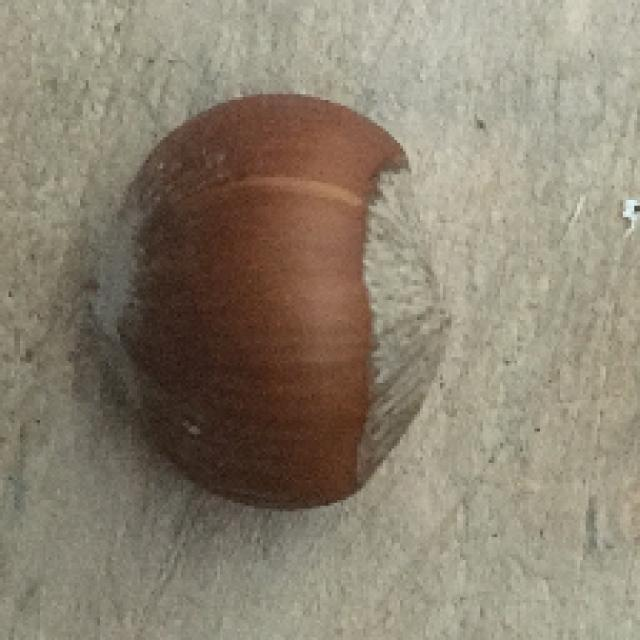QualityHazelnut: (90, 92, 450, 510)
